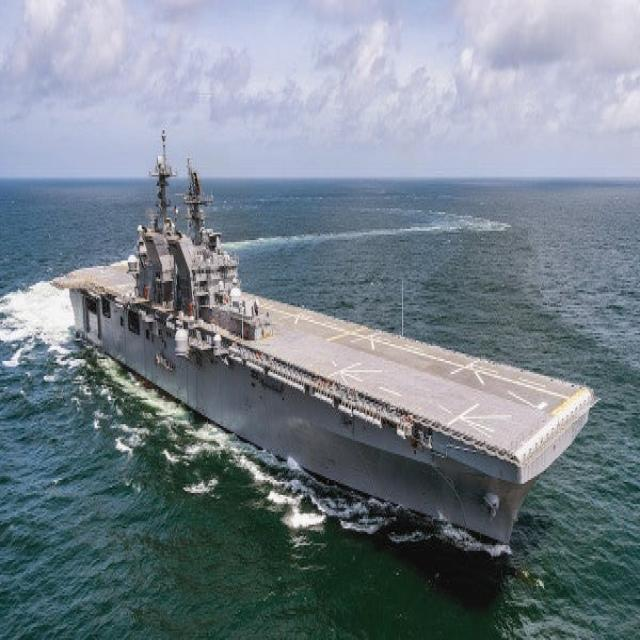navalvessels: (69, 144, 596, 581)
